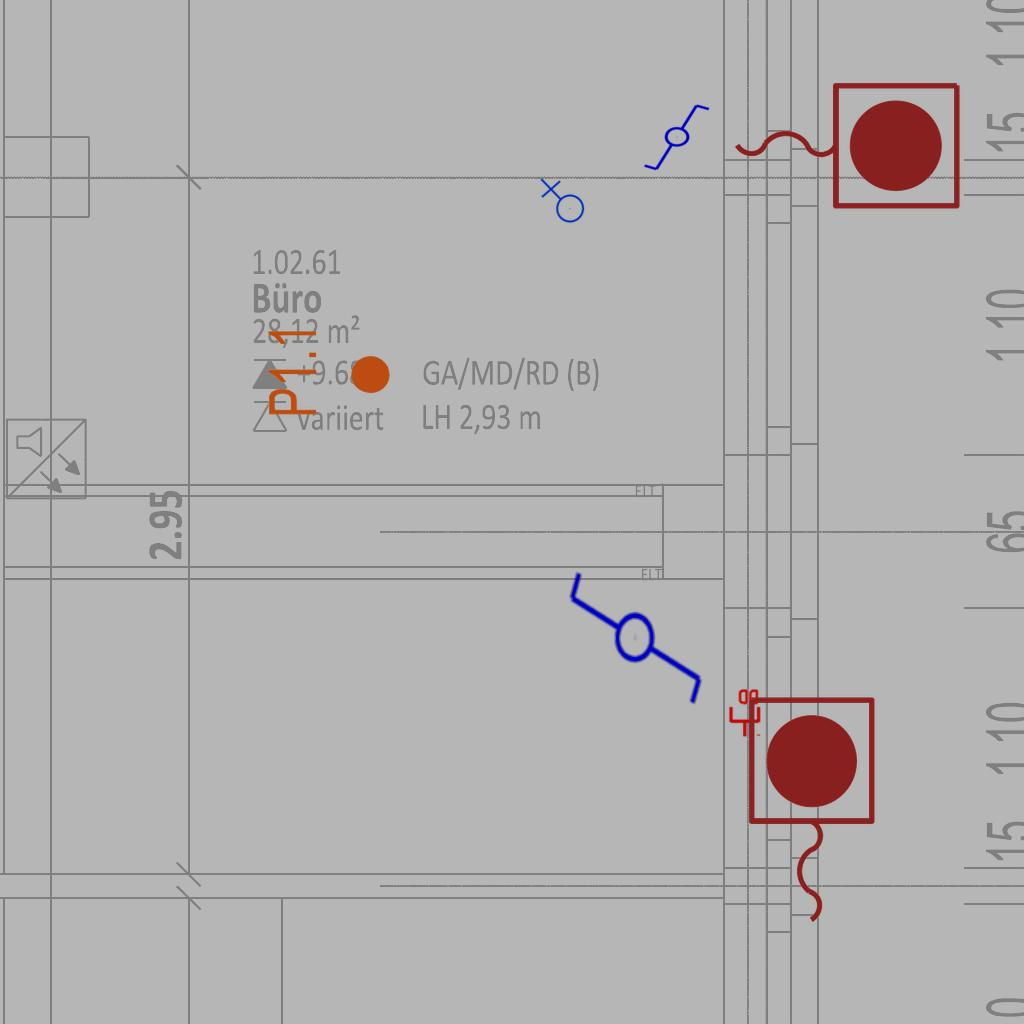Datenanschluss_zweifach: (727, 687, 761, 738)
Downlight_LED_Einbauleuchten_Flur: (265, 325, 393, 418)
Elektroanschluss_allgemein_230V_Geraeteanschlussdose_230V: (538, 178, 585, 227)
Wechselschalter: (565, 551, 709, 708), (642, 102, 720, 174)
Zugtaster: (724, 72, 968, 216), (738, 689, 882, 933)
